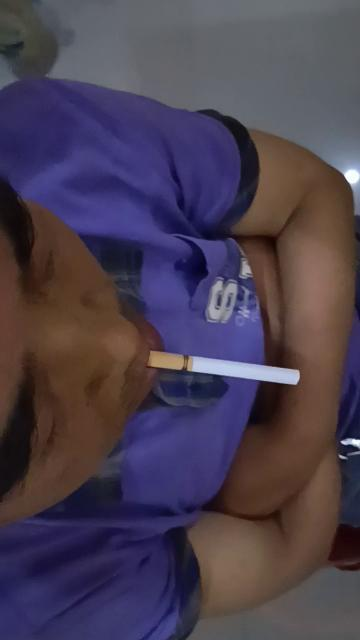Smoking: (148, 349, 304, 387)
